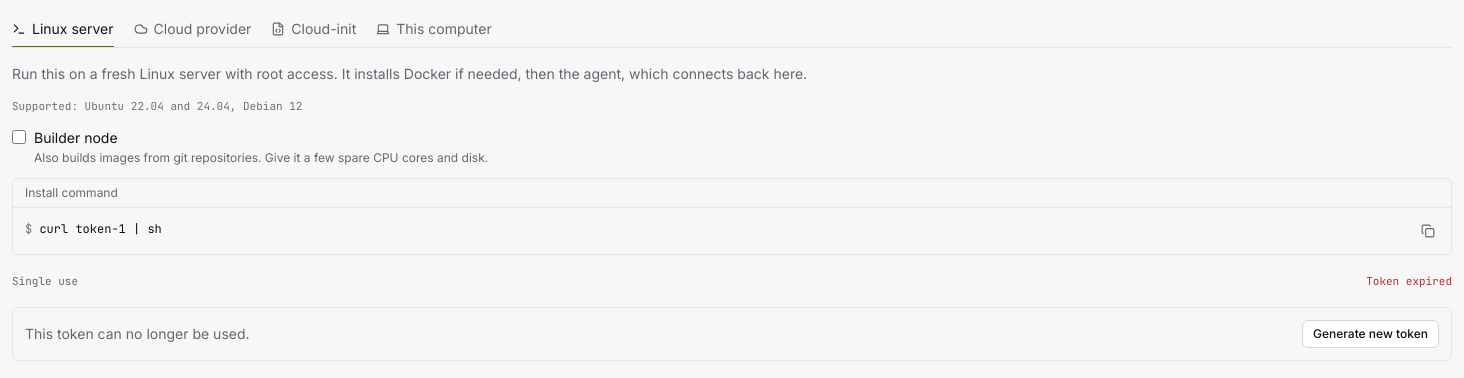
Scenario: AddServerFlow › offers a new token once the current one expires
expect the text "Token expired" is shown: met, box [1366, 271, 1452, 291]
expect the text "Waiting for the server to connect…" is not shown: met
Click the button "Generate new token". click: (1370, 334)
box: [1302, 320, 1439, 348]
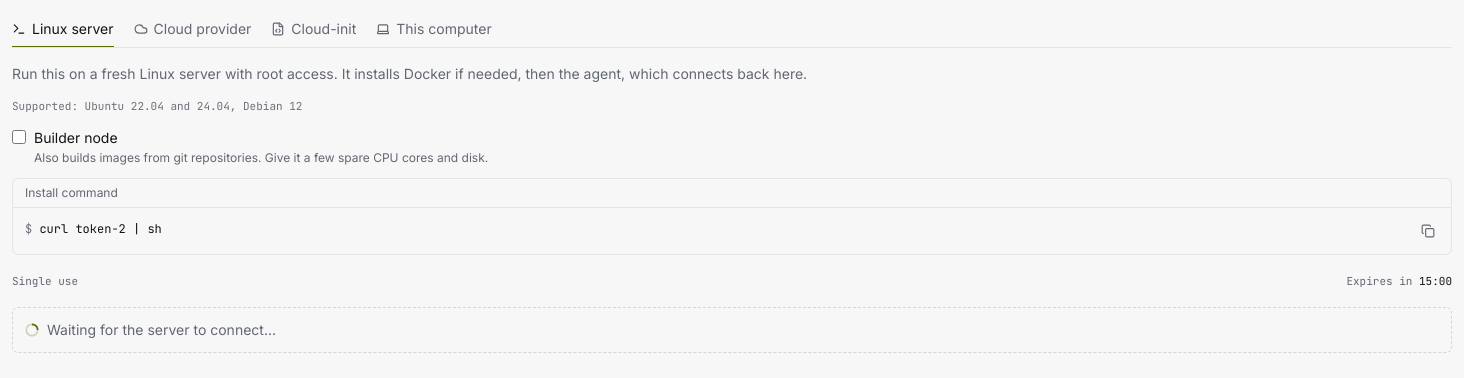
expect the text "curl token-2 | sh" is shown: met, box [39, 221, 162, 237]
expect the text "Waiting for the server to connect…" is shown: met, box [12, 307, 1452, 353]
